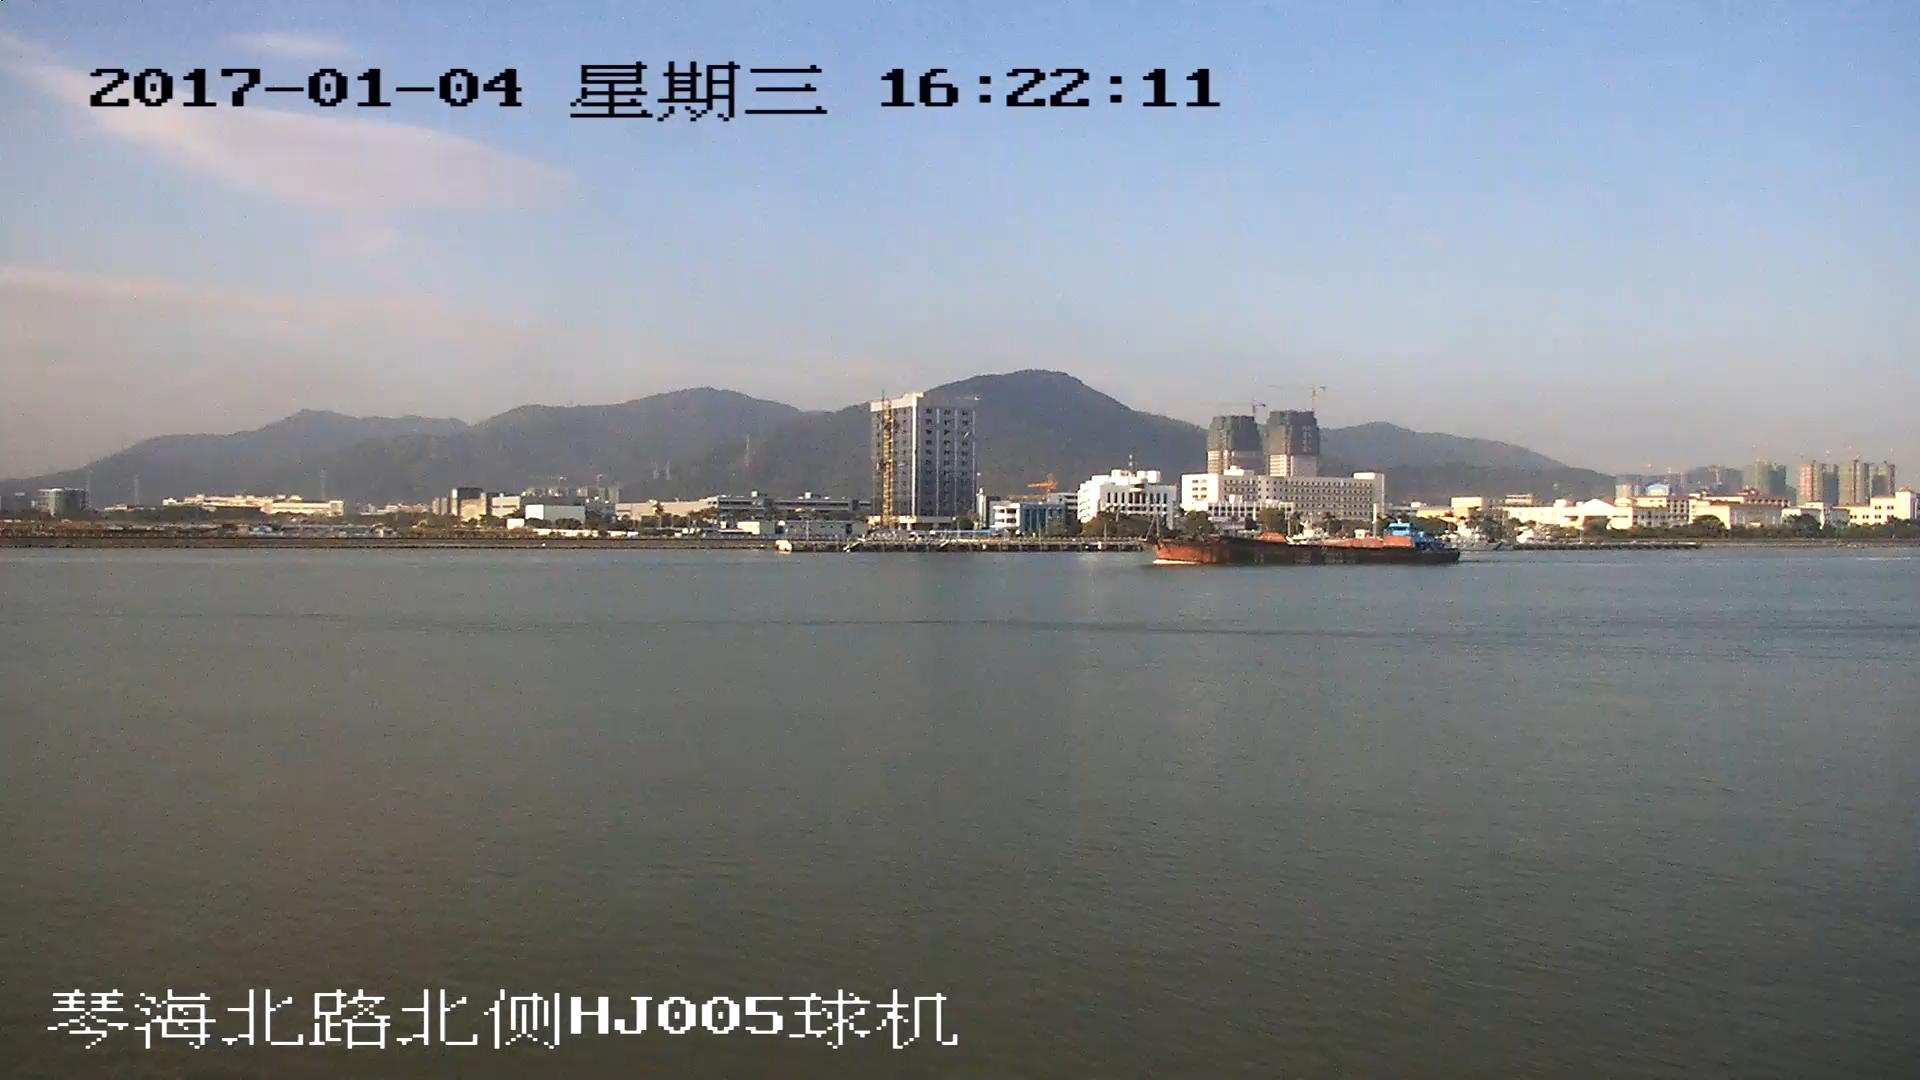bulk cargo carrier: (1111, 510, 1457, 565)
